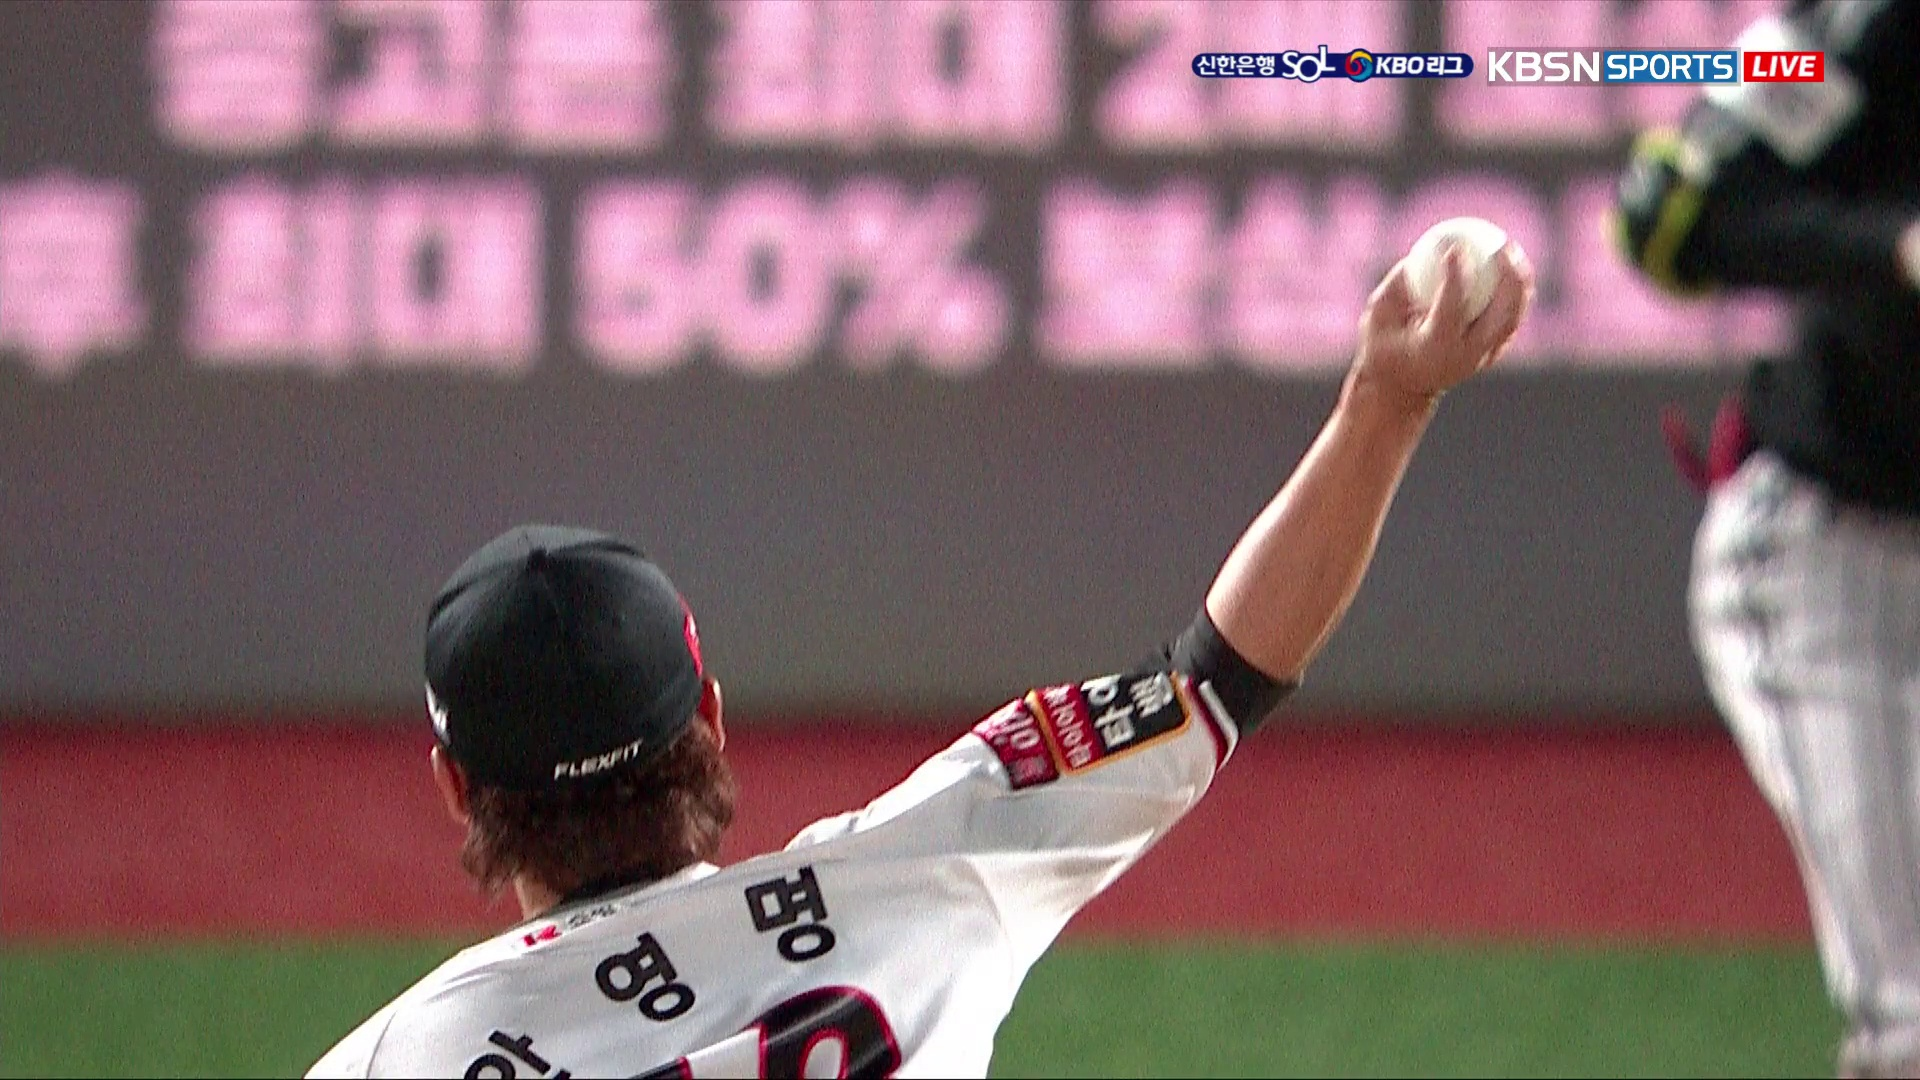zoomin_hand: (1127, 208, 1542, 783)
